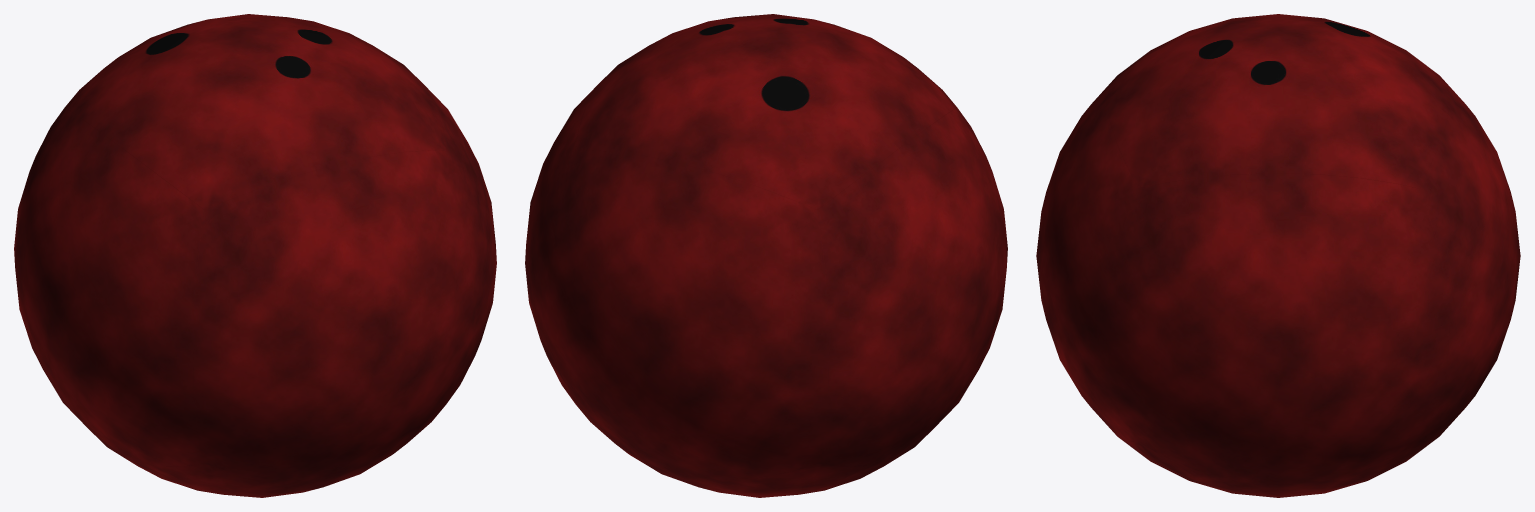
File: bowling_ball.glb
3 views of the same model, side by side, from view 1: azimuth 30°, elevation 25°; view 2: azimuth 150°, elevation 25°; view 3: azimuth 270°, elevation 25° (orthographic).
Parts seen in each view (by area): view 1: bowlingBall; view 2: bowlingBall; view 3: bowlingBall.
Boxes of the visible parts, x1,y1,x2,y2 form: bowlingBall: [14, 14, 496, 497]; bowlingBall: [525, 14, 1007, 497]; bowlingBall: [1036, 14, 1520, 497].
Size of the model in its own units: 1 by 1 by 1.
Materials: 1 (1 with a texture image).
